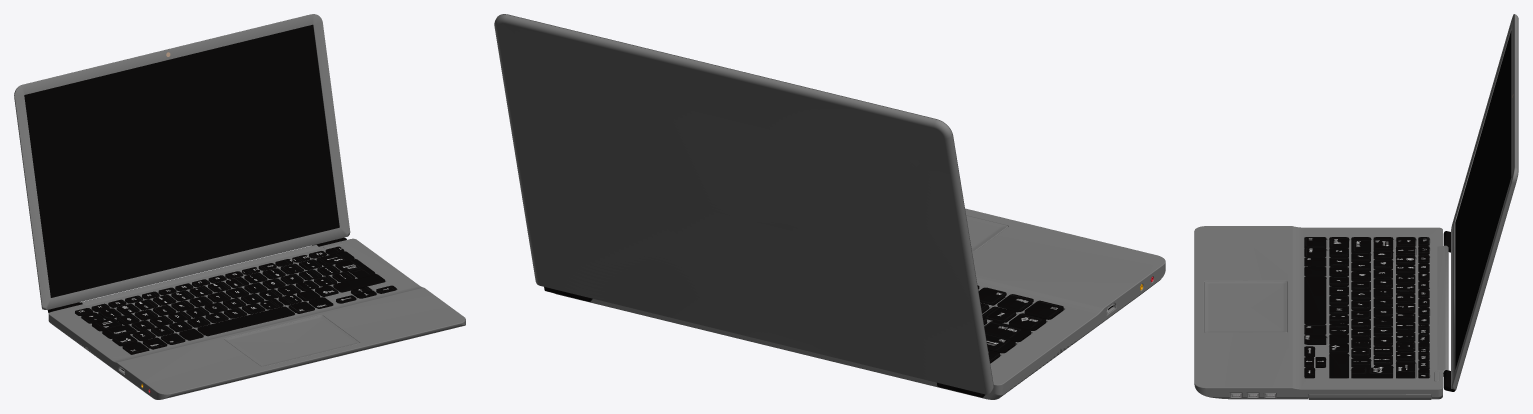
Rendered from laptop.fbx.
3 views of the same model, side by side, from view 1: azimuth 30°, elevation 25°; view 2: azimuth 150°, elevation 25°; view 3: azimuth 270°, elevation 25° (orthographic). The views are drawn at different scales.
Parts seen in each view (by area): view 1: Laptop, Laptop.001; view 2: Laptop, Laptop.001; view 3: Laptop, Laptop.001.
Boxes of the visible parts, bbox=[...] form: Laptop: bbox=[14, 14, 465, 399]; Laptop.001: bbox=[75, 246, 396, 354]; Laptop: bbox=[494, 14, 1165, 399]; Laptop.001: bbox=[977, 285, 1063, 363]; Laptop: bbox=[1194, 14, 1518, 399]; Laptop.001: bbox=[1304, 237, 1429, 378].
Size of the model in its own units: 68.38 by 45.3 by 57.88.
Materials: 4 (4 with a texture image).
